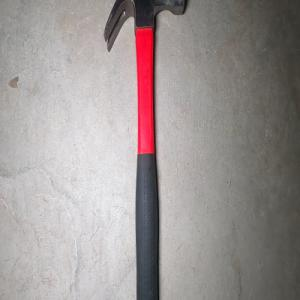Hammer: (103, 0, 185, 300)
